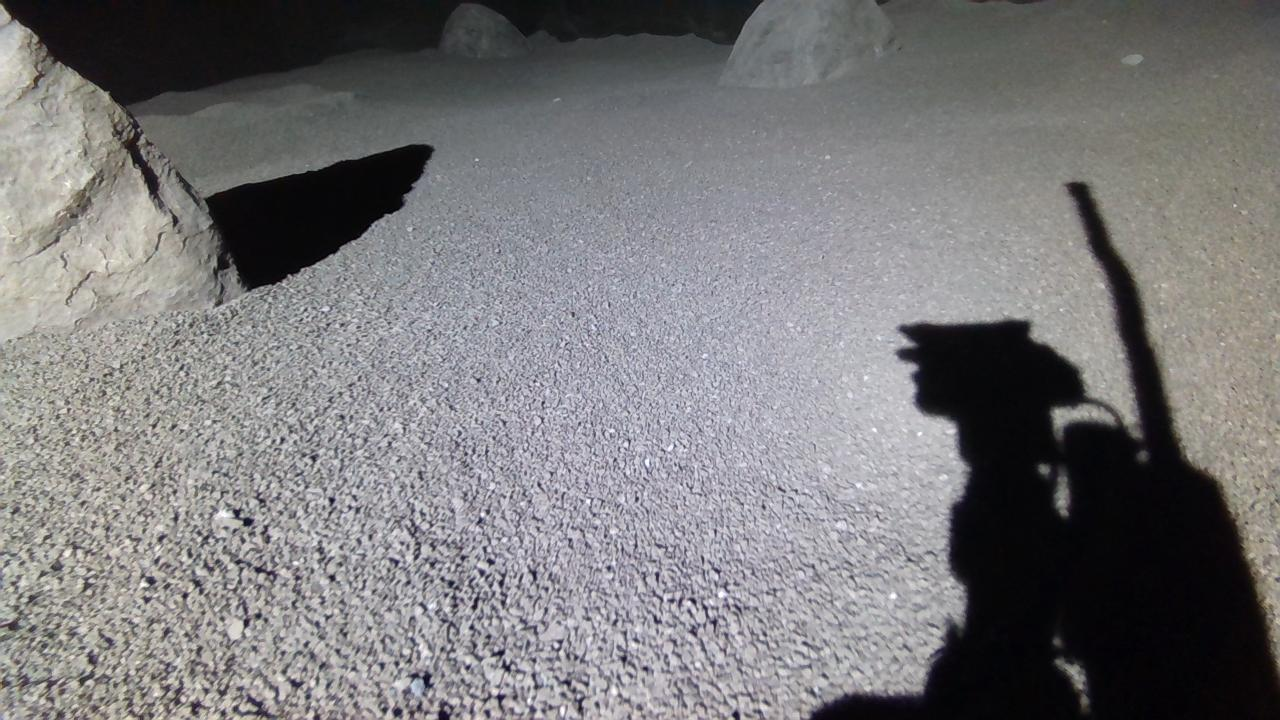rock: (720, 0, 898, 86), (438, 2, 530, 56)
